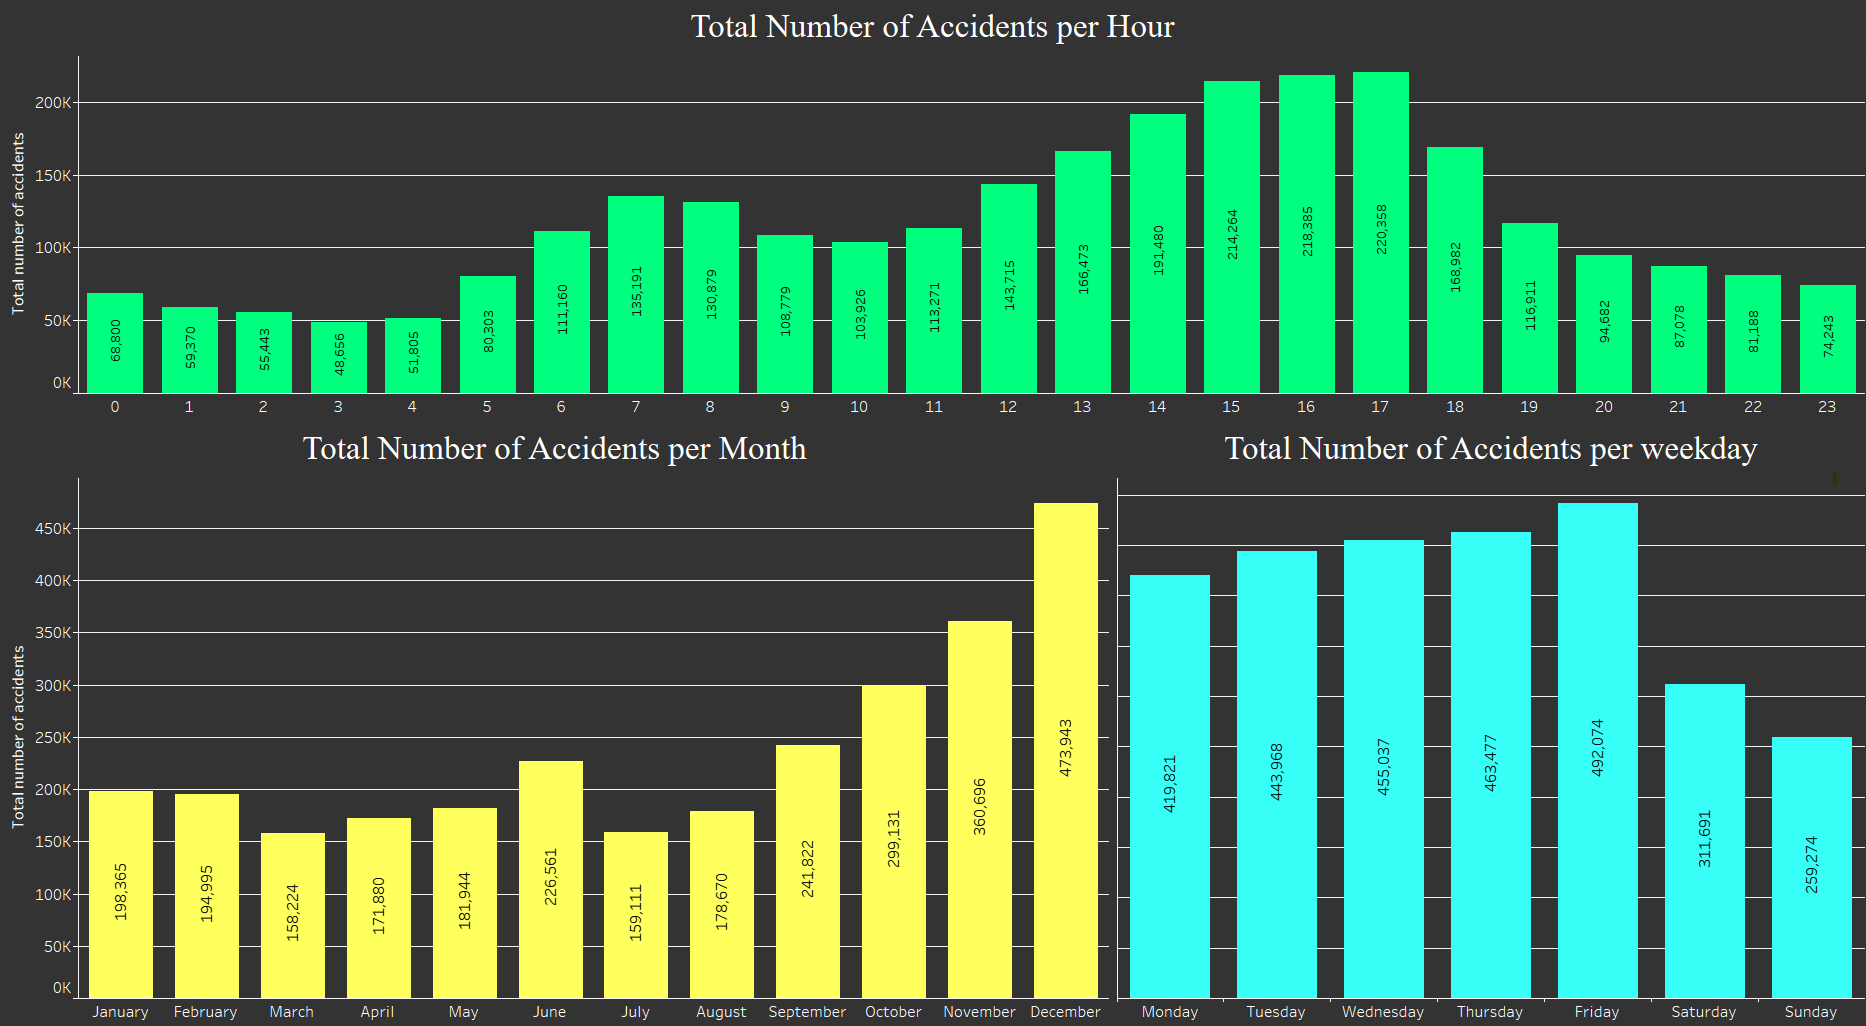

The dashboard page shown, as its layout file describes it:
{"tool":"tableau","page":{"name":"Dashboard 2","canvas":[1000,1000],"units":"permille","ordinal":0},"visuals":[{"type":"worksheet","title":"Total Number of Accidents per Hour","mark":"Bar","rows":["US_Accidents_Dec21_updated.csv_4BBE1D2390A94D0E8CA0AA977314F"],"cols":["Start_Time"],"box":[4.8,9.4,990.3,495.9]},{"type":"worksheet","title":"Total Number of Accidents per Month","mark":"Bar","rows":["US_Accidents_Dec21_updated.csv_4BBE1D2390A94D0E8CA0AA977314F"],"cols":["Start_Time"],"box":[4.8,505.3,534.1,485.3]},{"type":"worksheet","title":"Total Number of Accidents per weekday","mark":"Bar","rows":["US_Accidents_Dec21_updated.csv_4BBE1D2390A94D0E8CA0AA977314F"],"cols":["Start_Time"],"box":[538.9,505.3,456.2,485.3]}]}

Visuals, with their boxes on the dashboard's canvas, which has no fixed pixel size, in thousandths of its width and height (x1, y1, x2, y2). These are canvas units, not pixel positions in the 1866x1026 screenshot, which may show the page scaled, cropped or inside an application window:
"Total Number of Accidents per Hour" worksheet (Bar marks): crop(5, 9, 995, 505)
"Total Number of Accidents per Month" worksheet (Bar marks): crop(5, 505, 539, 991)
"Total Number of Accidents per weekday" worksheet (Bar marks): crop(539, 505, 995, 991)
